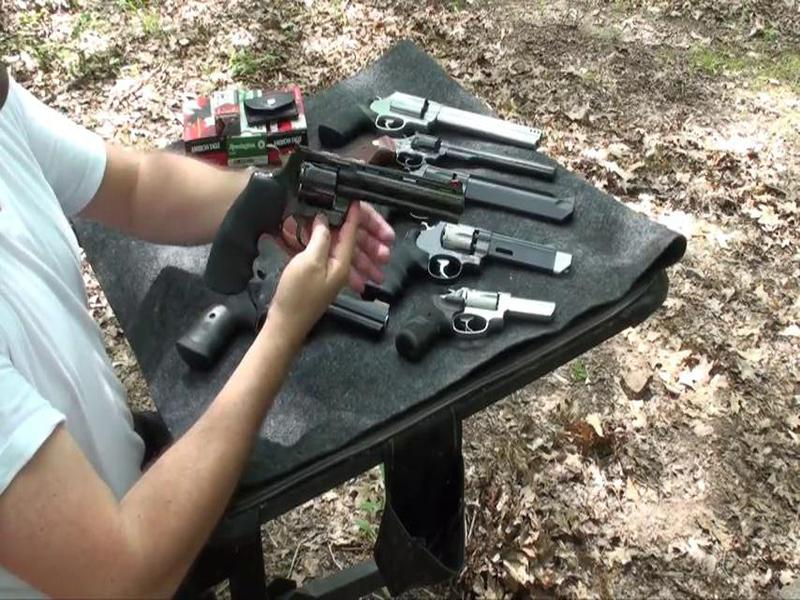Revolver: (208, 143, 457, 304)
